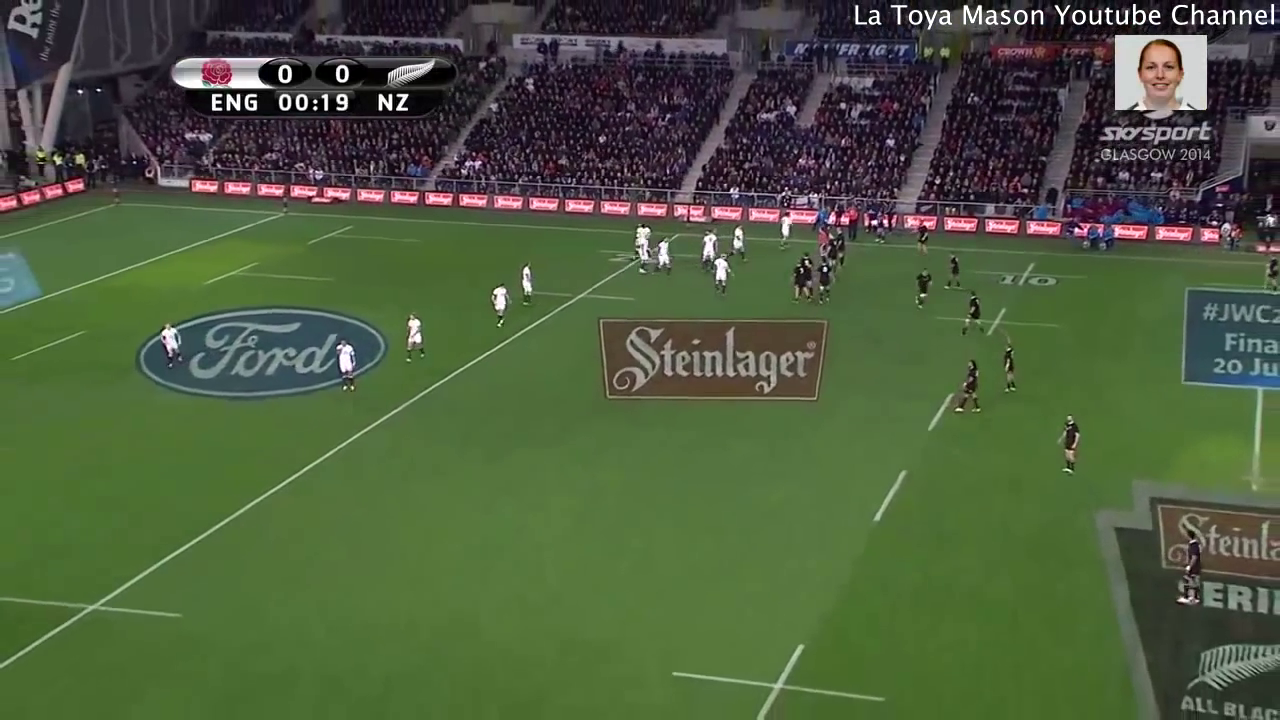10_metre: (667, 636, 888, 720), (935, 309, 1065, 351), (978, 258, 1085, 300)
player: (1177, 527, 1204, 606), (954, 356, 988, 417), (1056, 407, 1082, 481), (401, 311, 435, 364), (331, 335, 357, 398), (156, 321, 185, 372), (909, 263, 938, 314), (998, 340, 1022, 401), (960, 290, 989, 340), (631, 222, 654, 275), (486, 281, 510, 330), (943, 249, 966, 298), (709, 251, 732, 296), (791, 259, 813, 303), (726, 221, 747, 265), (814, 259, 835, 302), (517, 258, 535, 304), (700, 227, 717, 273), (833, 227, 852, 267), (1263, 249, 1280, 292), (656, 236, 673, 279), (820, 240, 838, 272), (916, 216, 930, 256), (779, 210, 797, 241), (874, 212, 887, 244)
